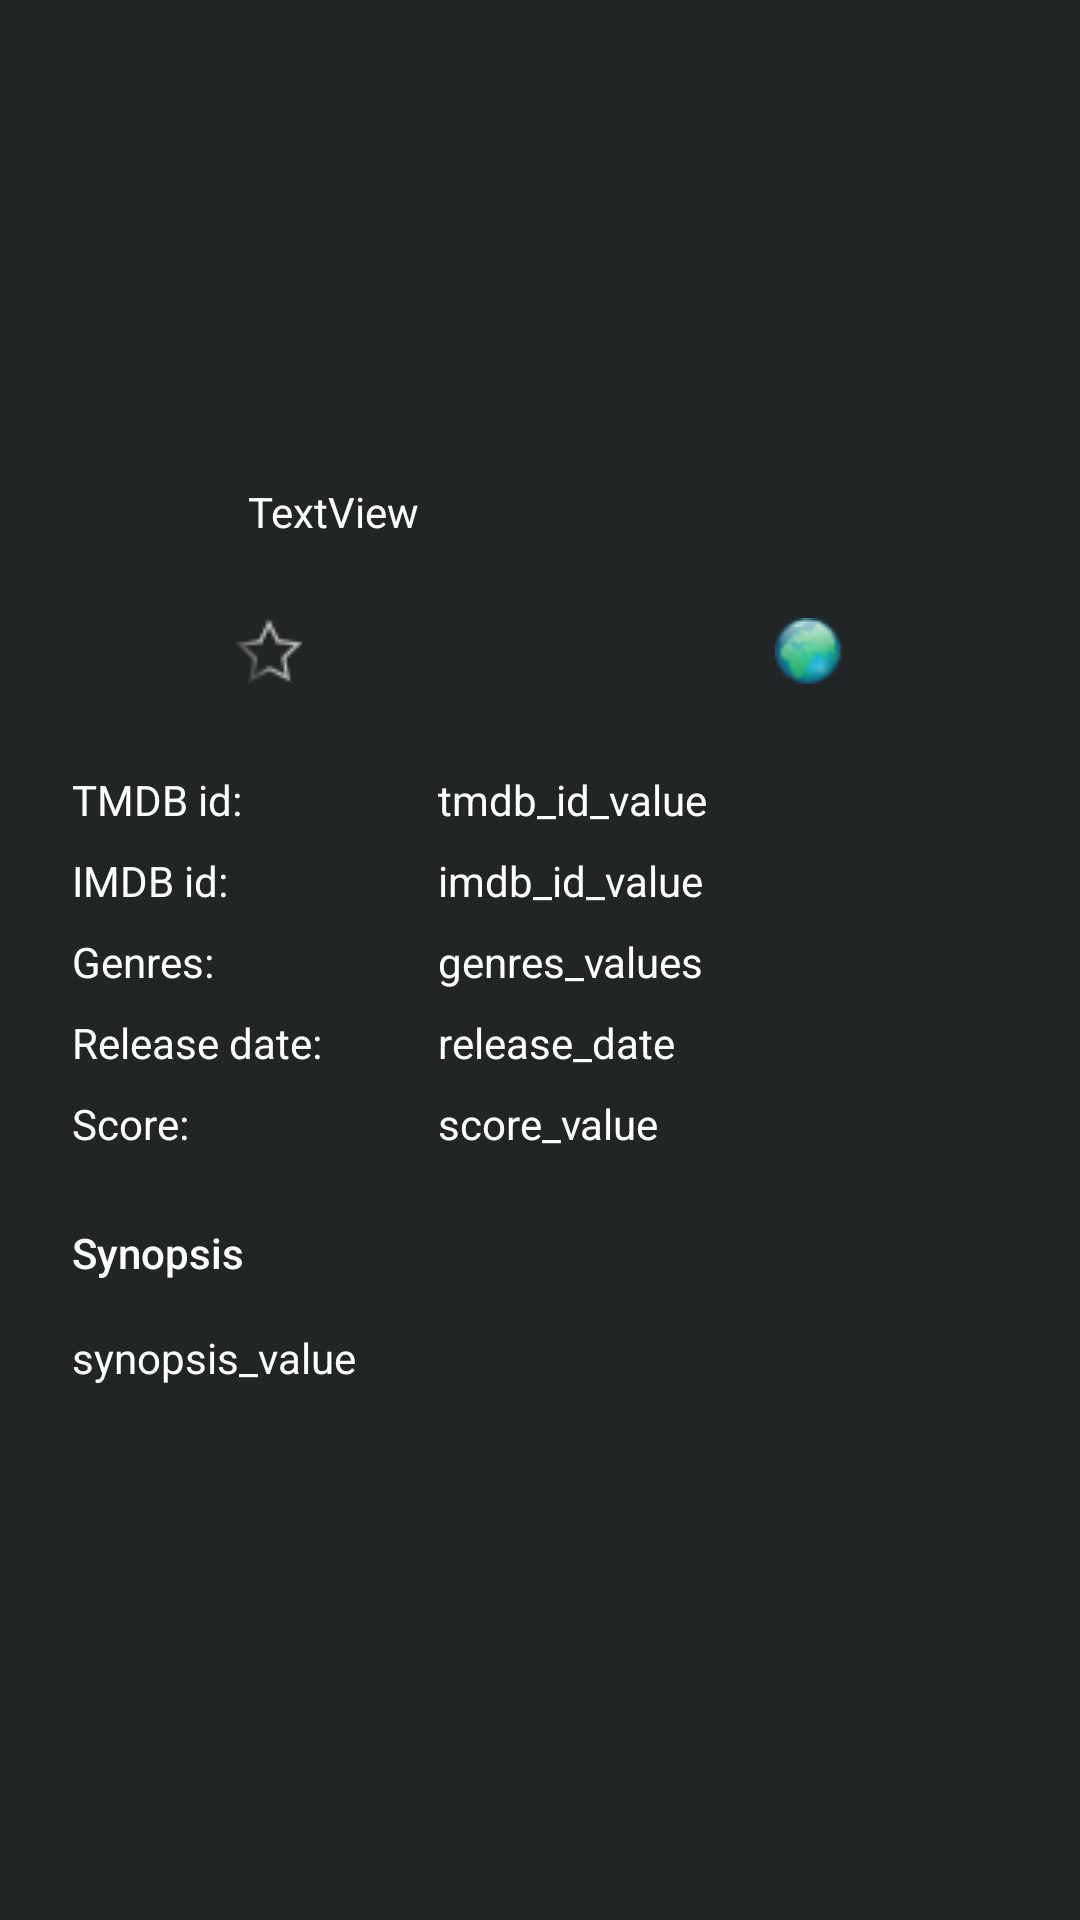

Named icons in this screenshot (1080*1920) and their centers, (x=x, y=y):
globe: (x=808, y=651)
star empty: (x=269, y=651)
